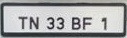character: (82, 16, 92, 30), (17, 16, 27, 29), (29, 16, 39, 29), (71, 17, 80, 30), (46, 16, 54, 30), (56, 16, 64, 30), (100, 16, 107, 30)
